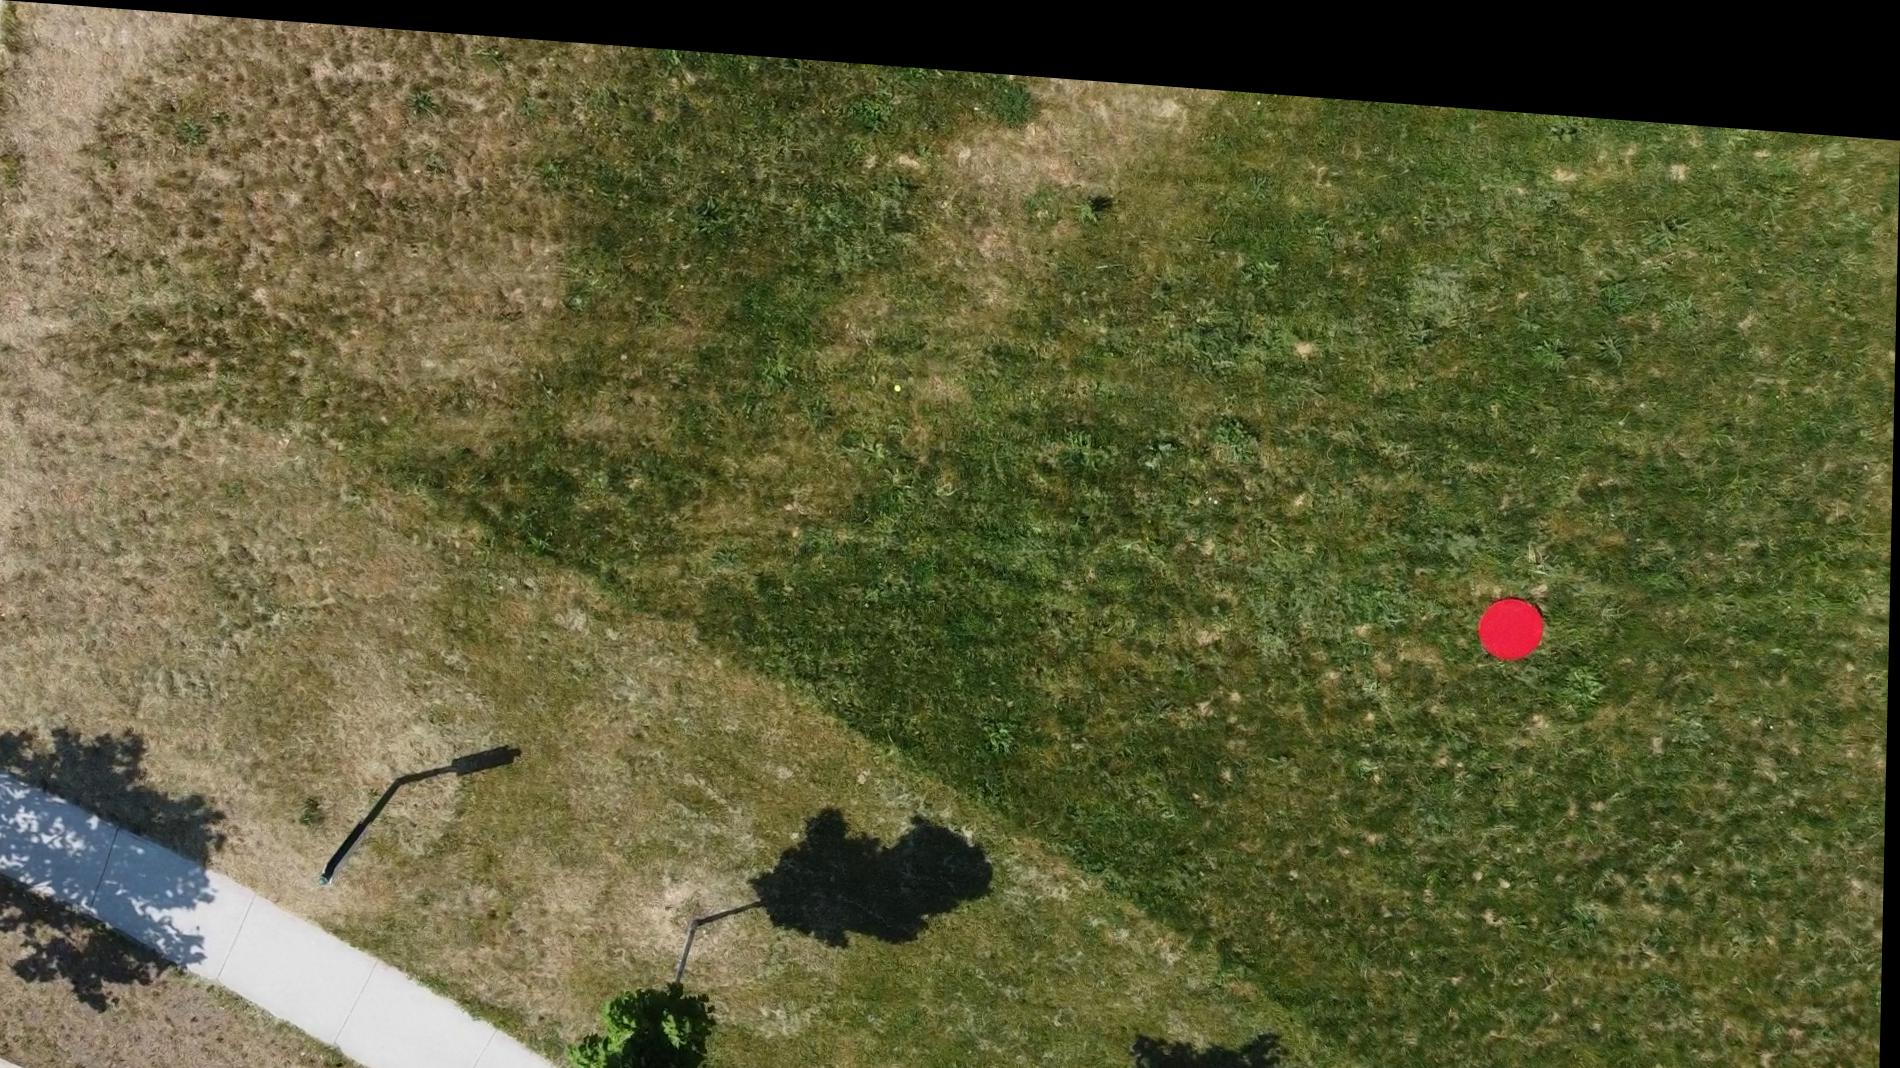Red: (1476, 568, 1549, 640)
